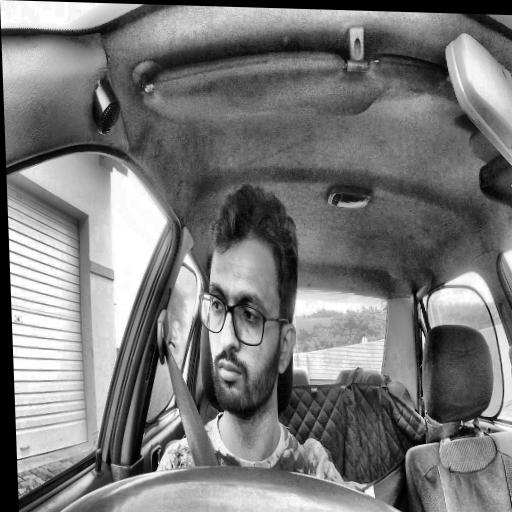awake: (194, 183, 305, 425)
